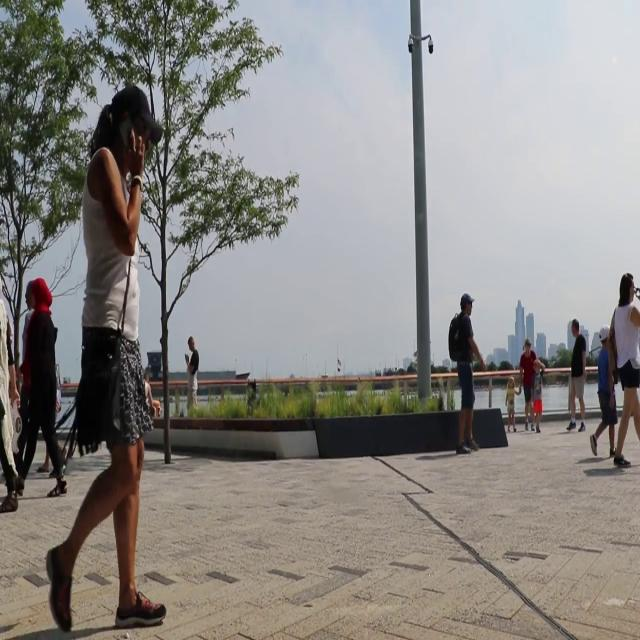normal: (43, 82, 172, 640)
